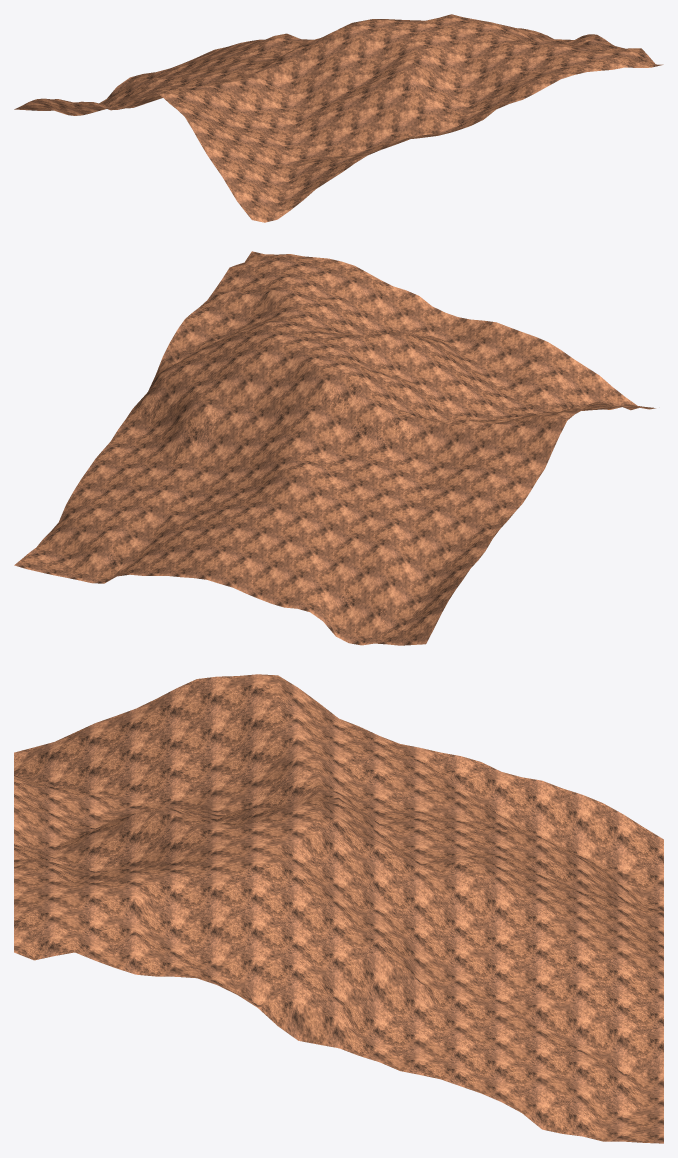
The model's file is terrain_06_03.dae.
3 views of the same model, one above another, from view 1: azimuth 30°, elevation 25°; view 2: azimuth 150°, elevation 25°; view 3: azimuth 270°, elevation 25° (orthographic). The views are drawn at different scales.
Visible parts, largest first — view 1: terrain_06_03-node; view 2: terrain_06_03-node; view 3: terrain_06_03-node.
Part boxes in pixels (x1,y1,x2,y2): terrain_06_03-node: (14,14,663,222); terrain_06_03-node: (14,251,655,645); terrain_06_03-node: (14,674,663,1143).
Size of the model in its own units: 128 by 128 by 45.19.
Materials: 1 (1 with a texture image).
